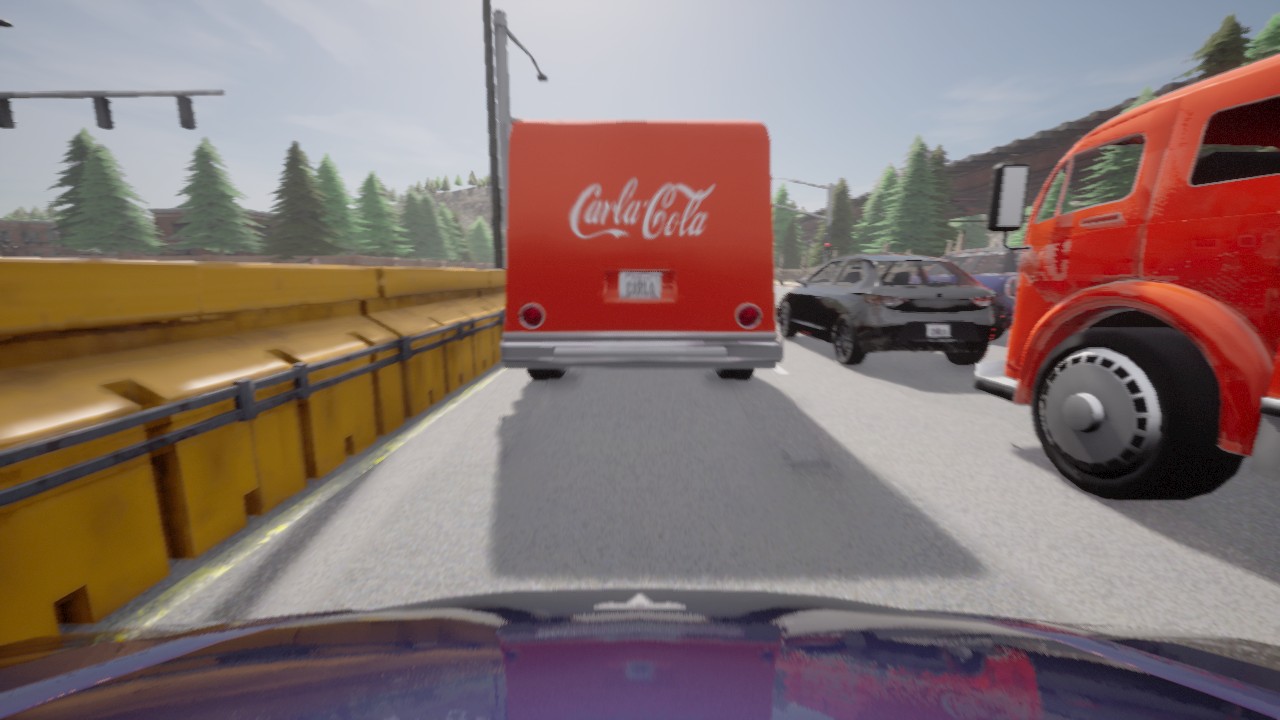cyclist: (0, 588, 1279, 719), (974, 54, 1279, 501), (501, 120, 783, 380), (776, 254, 995, 365), (942, 248, 1021, 341)
